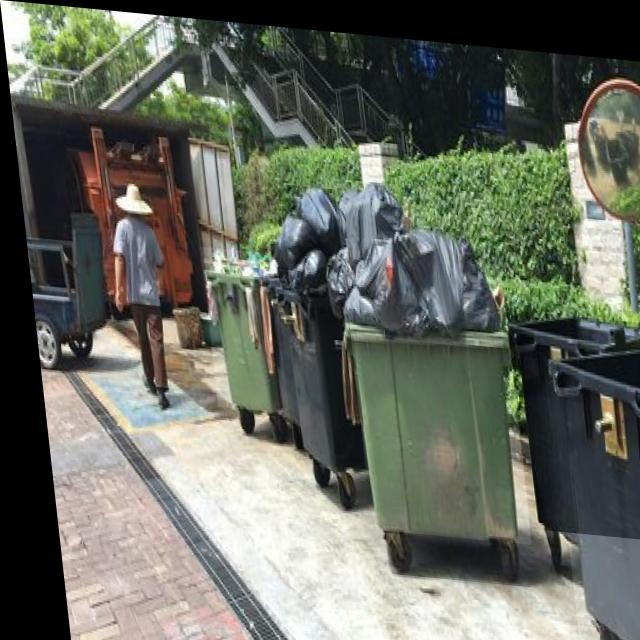garbage_bin: (500, 300, 640, 531), (540, 326, 640, 640)
overflow: (311, 171, 520, 535), (260, 178, 356, 464), (195, 243, 271, 408)
